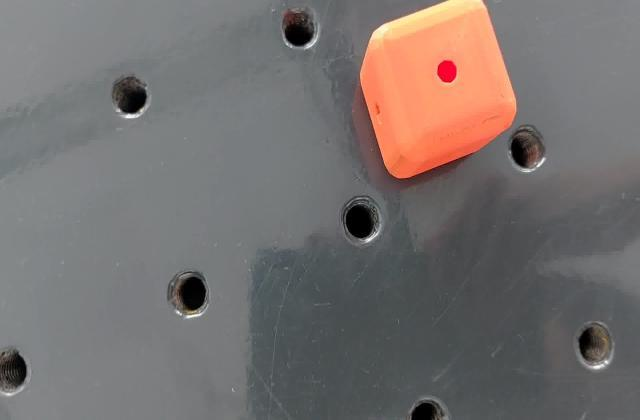cube: (356, 2, 521, 183)
